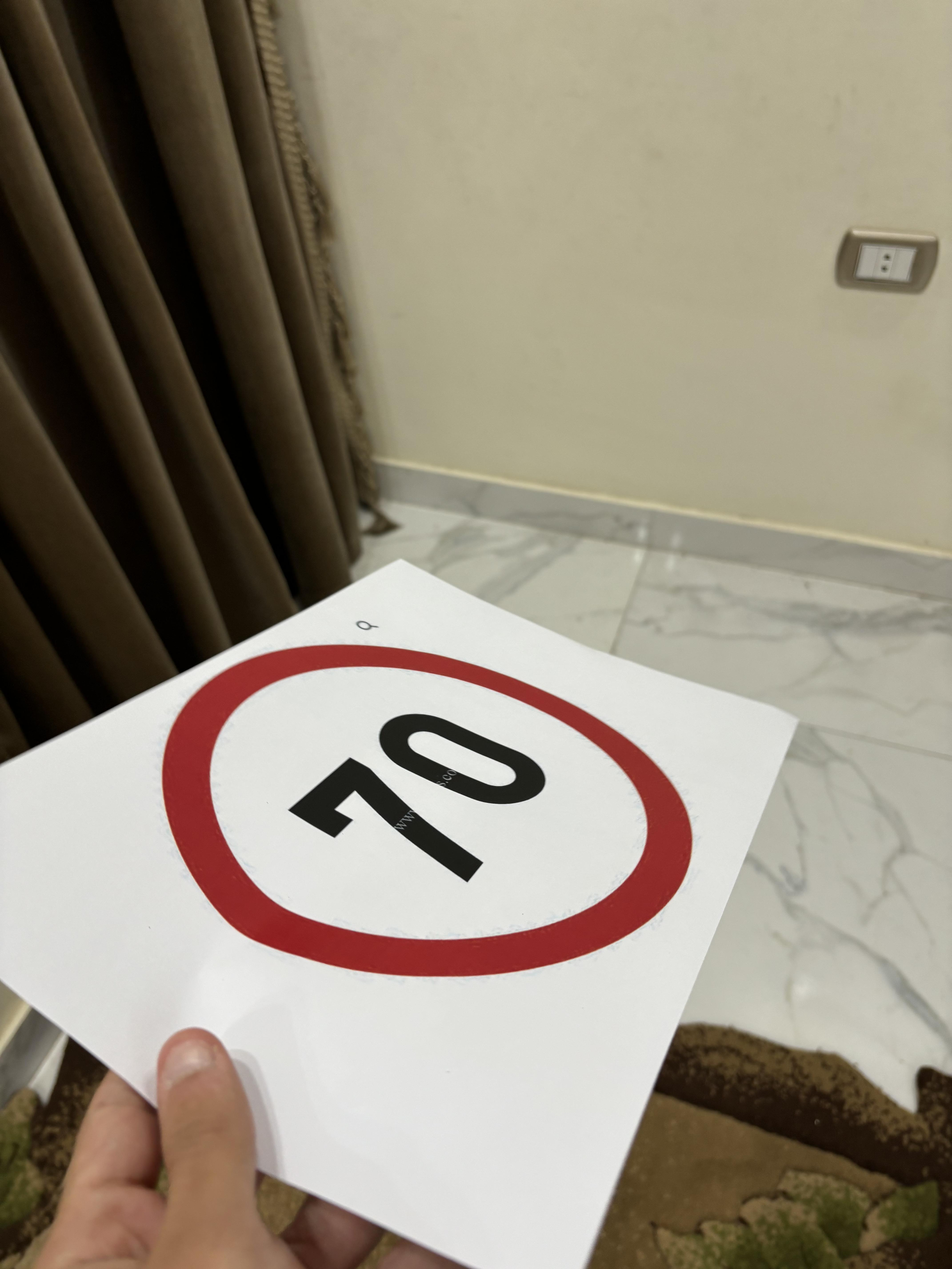70-Speed: (163, 634, 699, 981)
